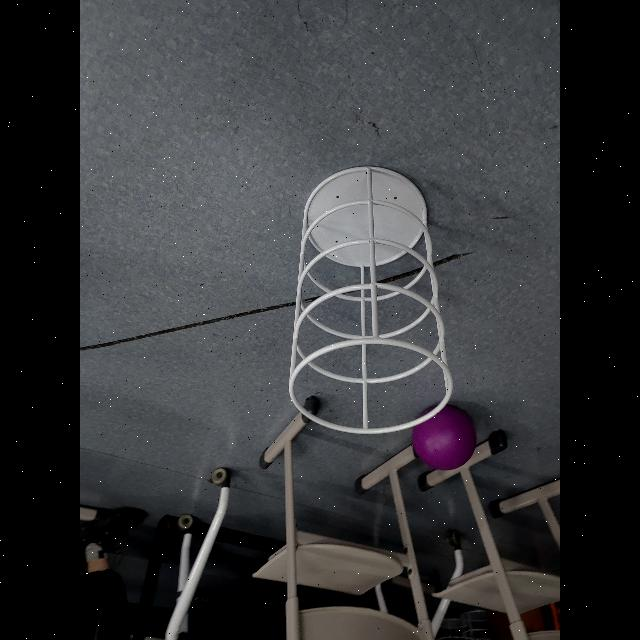S: (286, 165, 457, 437)
